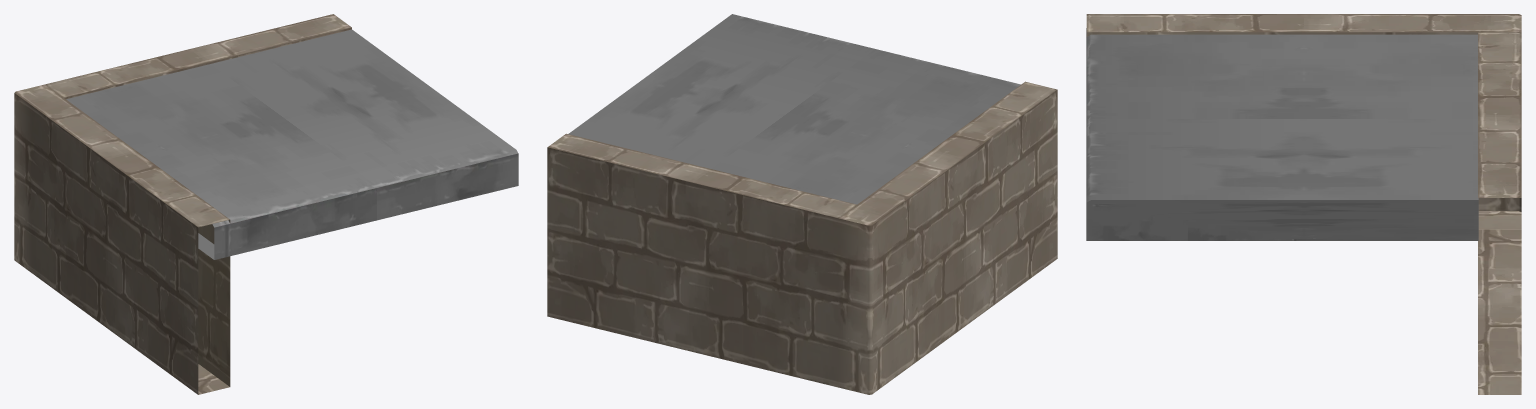
Rendered from stairs_exterior_platform45clean.glb.
The picture shows the model from 3 angles, left to right: view 1: azimuth 30°, elevation 25°; view 2: azimuth 150°, elevation 25°; view 3: azimuth 270°, elevation 25°; orthographic projection. The views are drawn at different scales.
Size of the model in its own units: 2 by 1 by 2.
Materials: 2 (2 with a texture image).
